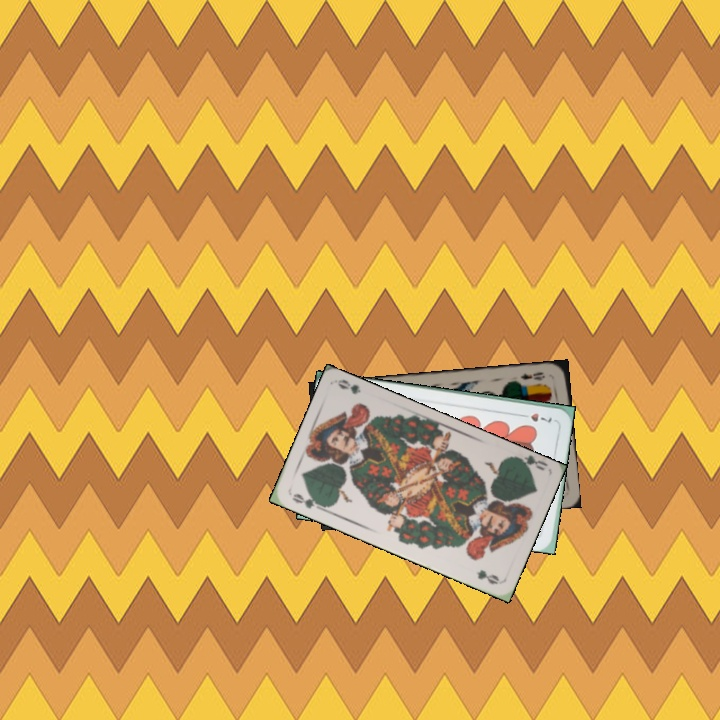EO: (517, 368, 547, 383)
GO: (509, 452, 549, 476), (288, 489, 327, 513)
H7: (516, 409, 555, 425)
